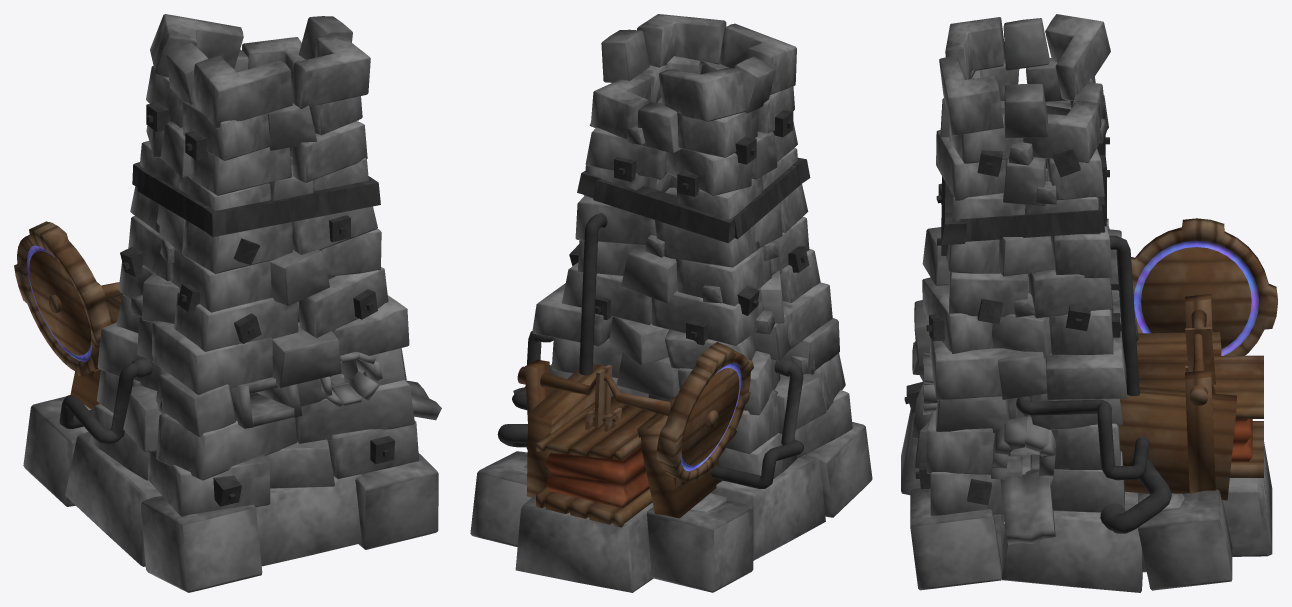
The model's file is BFB.fbx.
The picture shows the model from 3 angles, left to right: view 1: azimuth 30°, elevation 25°; view 2: azimuth 150°, elevation 25°; view 3: azimuth 270°, elevation 25°; orthographic projection. The views are drawn at different scales.
Visible parts, largest first — view 1: BF; view 2: BF; view 3: BF.
Boxes of the visible parts, <box> form: BF: <box>14,14,441,592</box>; BF: <box>470,14,872,592</box>; BF: <box>901,14,1277,592</box>.
Bounding box in the file's own units: 374 × 561 × 392.
2 materials, 2 textured.
